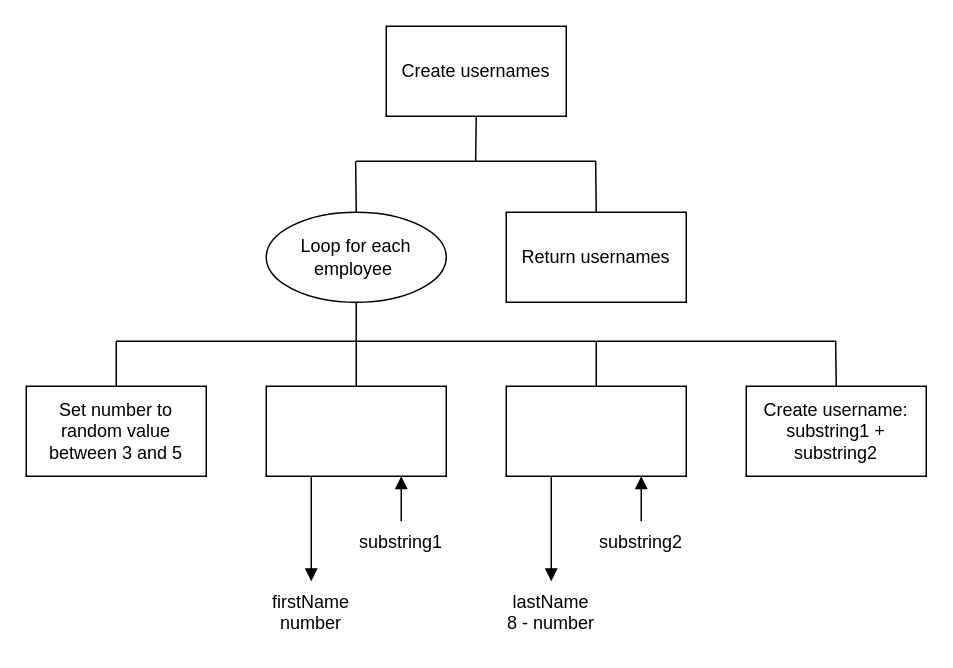
The diagram is 953 pixels wide and 668 high, and some of its shapes have lost their labels. Here are the shapes that lost their labels. From the top down, the centre of each, then its label:
[355,430]: Get number of characters from left of first name
[595,430]: Get 8 - number of characters from left of last name
